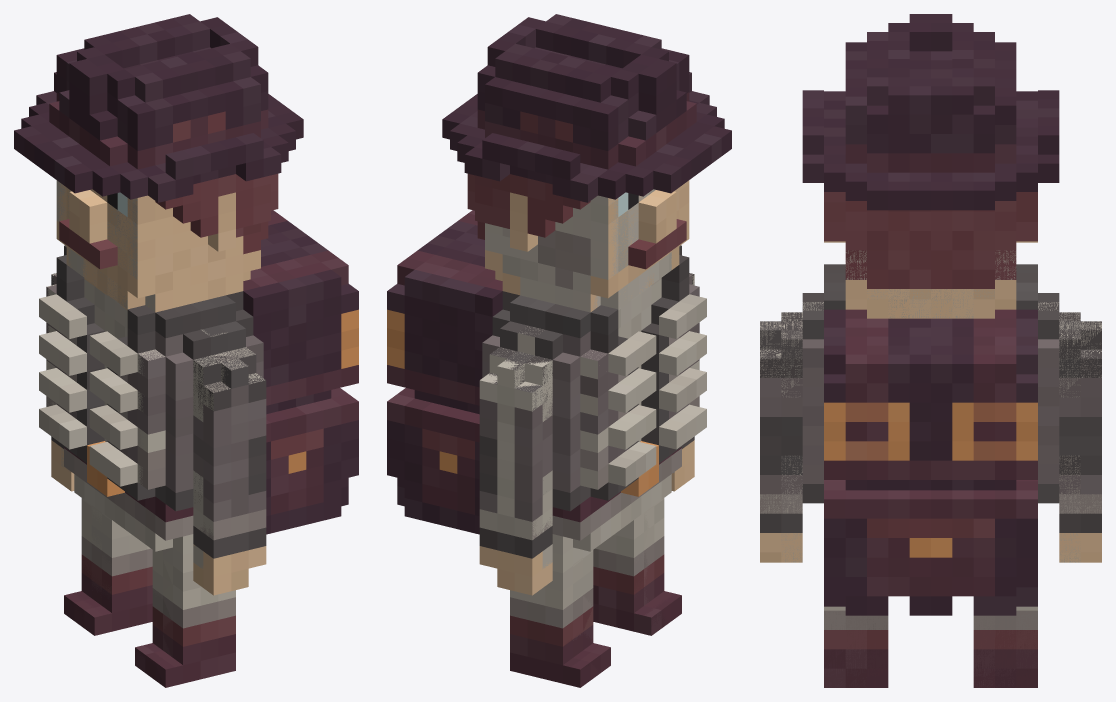
File: SonojAnaidni.fbx
3 renders of one model, left to right at view 1: azimuth 30°, elevation 25°; view 2: azimuth 150°, elevation 25°; view 3: azimuth 270°, elevation 25°, orthographic. The views are drawn at different scales.
Visible parts, largest first — view 1: SonojAnaidni_Hat001, SonojAnaidni_bag001, SonojAnaidni_Chest001, SonojAnaidni_Head001, SonojAnaidni_lt_arm001, SonojAnaidni_skeleton_chest001, SonojAnaidni_lt_leg001, SonojAnaidni_rt_leg_002, SonojAnaidni_skeleton_lt_arm001, SonojAnaidni_skeleton_head001, SonojAnaidni_skeleton_lt_leg001, SonojAnaidni_skeleton_rt_leg001 (+1 smaller); view 2: SonojAnaidni_Hat001, SonojAnaidni_bag001, SonojAnaidni_Chest001, SonojAnaidni_skeleton_chest001, SonojAnaidni_Head001, SonojAnaidni_rt_leg001, SonojAnaidni_skeleton_head001, SonojAnaidni_skeleton_rt_arm001, SonojAnaidni_rt_leg_002, SonojAnaidni_skeleton_rt_leg001, SonojAnaidni_lt_leg001, SonojAnaidni_skeleton_lt_leg001 (+1 smaller); view 3: SonojAnaidni_bag001, SonojAnaidni_Hat001, SonojAnaidni_Head001, SonojAnaidni_Chest001, SonojAnaidni_rt_leg001, SonojAnaidni_lt_arm001, SonojAnaidni_rt_leg_002, SonojAnaidni_lt_leg001, SonojAnaidni_skeleton_lt_arm001, SonojAnaidni_skeleton_rt_arm001, SonojAnaidni_skeleton_rt_leg001, SonojAnaidni_skeleton_lt_leg001 (+1 smaller).
Boxes of the visible parts, box(x1,y1,x2,y2) form: SonojAnaidni_Hat001: box(14, 14, 303, 202); SonojAnaidni_bag001: box(243, 210, 358, 534); SonojAnaidni_Chest001: box(46, 245, 263, 536); SonojAnaidni_Head001: box(56, 173, 278, 312); SonojAnaidni_lt_arm001: box(193, 347, 266, 595); SonojAnaidni_skeleton_chest001: box(39, 284, 227, 486); SonojAnaidni_lt_leg001: box(135, 500, 235, 687); SonojAnaidni_rt_leg_002: box(64, 448, 152, 635); SonojAnaidni_skeleton_lt_arm001: box(193, 347, 264, 568); SonojAnaidni_skeleton_head001: box(56, 180, 155, 311); SonojAnaidni_skeleton_lt_leg001: box(135, 548, 174, 686); SonojAnaidni_skeleton_rt_leg001: box(64, 505, 111, 628); SonojAnaidni_Hat001: box(442, 14, 731, 202); SonojAnaidni_bag001: box(387, 210, 502, 534); SonojAnaidni_Chest001: box(482, 245, 699, 536); SonojAnaidni_skeleton_chest001: box(517, 294, 706, 489); SonojAnaidni_Head001: box(467, 173, 689, 311); SonojAnaidni_rt_leg001: box(479, 347, 552, 595); SonojAnaidni_skeleton_head001: box(485, 189, 671, 312); SonojAnaidni_skeleton_rt_arm001: box(479, 348, 552, 569); SonojAnaidni_rt_leg_002: box(510, 500, 610, 687); SonojAnaidni_skeleton_rt_leg001: box(510, 557, 610, 687); SonojAnaidni_lt_leg001: box(595, 448, 681, 626); SonojAnaidni_skeleton_lt_leg001: box(593, 513, 681, 635); SonojAnaidni_bag001: box(824, 309, 1037, 615); SonojAnaidni_Hat001: box(802, 14, 1059, 210); SonojAnaidni_Head001: box(824, 192, 1037, 318); SonojAnaidni_Chest001: box(802, 264, 1059, 503); SonojAnaidni_rt_leg001: box(1059, 312, 1101, 562); SonojAnaidni_lt_arm001: box(760, 312, 802, 562); SonojAnaidni_rt_leg_002: box(973, 606, 1037, 687); SonojAnaidni_lt_leg001: box(824, 606, 888, 687); SonojAnaidni_skeleton_lt_arm001: box(760, 312, 802, 562); SonojAnaidni_skeleton_rt_arm001: box(1059, 312, 1101, 562); SonojAnaidni_skeleton_rt_leg001: box(974, 610, 1037, 687); SonojAnaidni_skeleton_lt_leg001: box(824, 611, 888, 687).
Bounding box in the file's own units: 15 × 32 × 16.
1 material, 1 textured.
